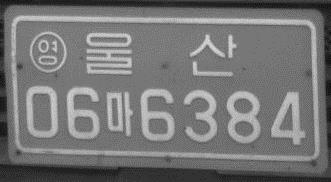0: (25, 84, 59, 139)
3: (183, 88, 219, 142)
4: (269, 90, 306, 146)
6: (138, 87, 176, 142), (65, 85, 100, 139)
8: (225, 90, 261, 144)
마: (105, 91, 134, 137)
영: (29, 30, 67, 73)
울산_D: (83, 30, 237, 79)
